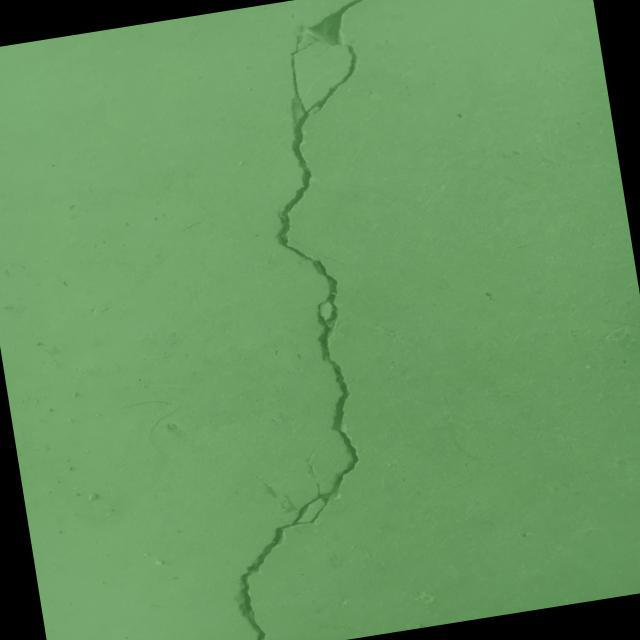crack: (142, 0, 485, 640)
